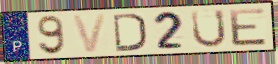2: (151, 10, 188, 52)
9: (36, 14, 68, 57)
D: (111, 12, 149, 53)
E: (227, 7, 270, 48)
U: (190, 8, 229, 50)
V: (71, 13, 109, 55)
